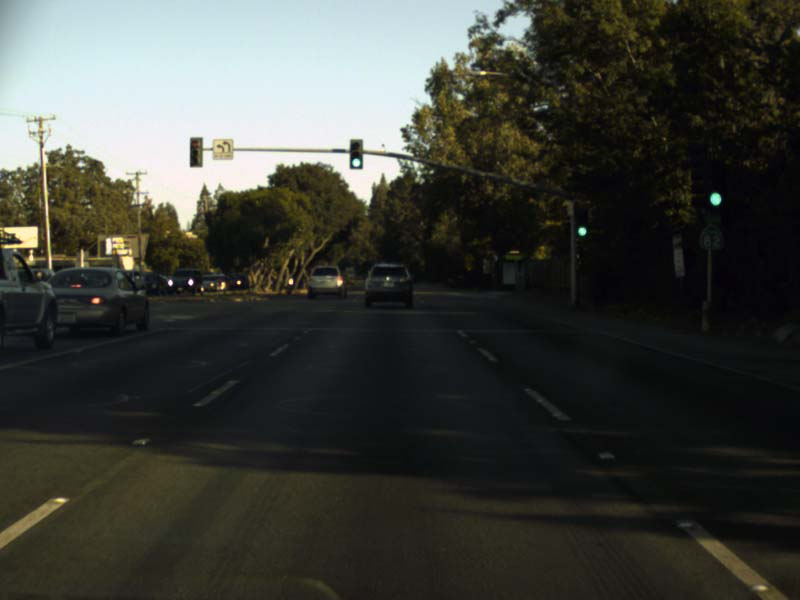Green: (703, 164, 723, 207), (575, 211, 588, 239), (350, 139, 360, 169)
Red: (189, 137, 201, 165)
